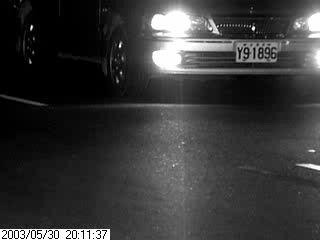plate: (233, 38, 278, 67)
